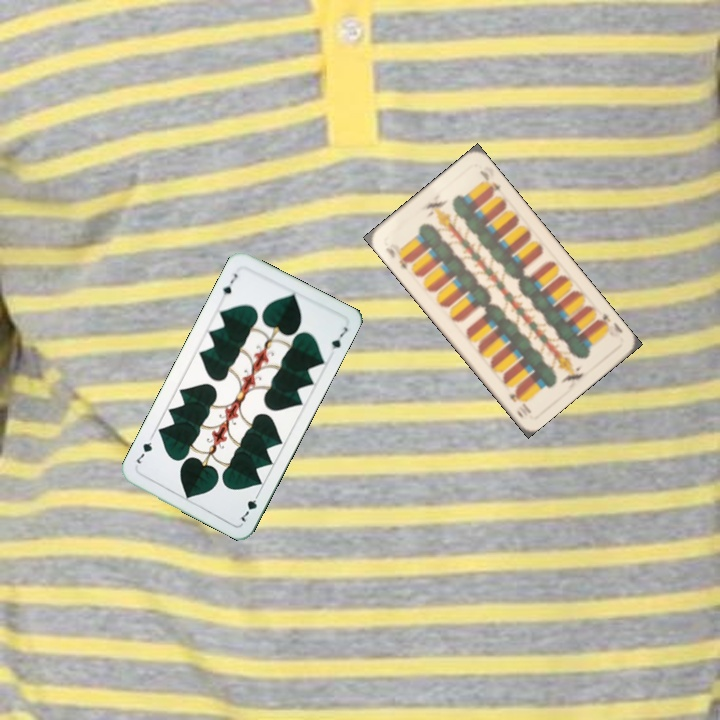E10: (382, 243, 413, 272), (592, 309, 625, 336)
G7: (237, 488, 263, 525), (218, 269, 240, 298)
